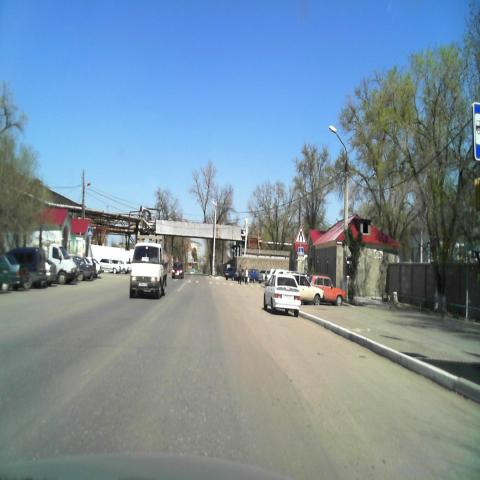1_20: (295, 225, 306, 244)
